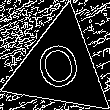O_S: (32, 36, 88, 99)
